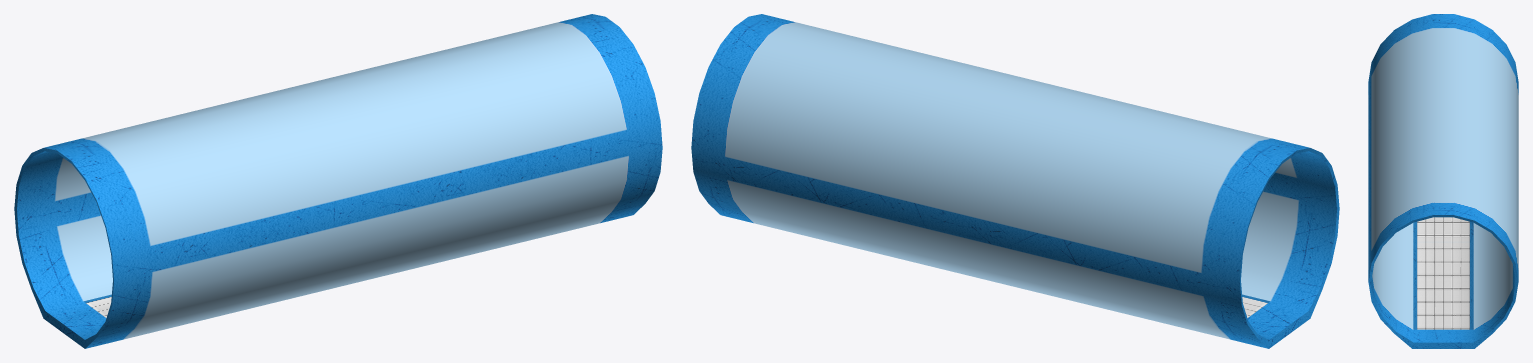
File: FUT0110019.fbx
The picture shows the model from 3 angles, left to right: view 1: azimuth 30°, elevation 25°; view 2: azimuth 150°, elevation 25°; view 3: azimuth 270°, elevation 25°; orthographic projection. The views are drawn at different scales.
Parts seen in each view (by area): view 1: smFUT0110019; view 2: smFUT0110019; view 3: smFUT0110019.
Boxes of the visible parts, bbox=[...] form: smFUT0110019: bbox=[14, 14, 662, 348]; smFUT0110019: bbox=[691, 14, 1339, 348]; smFUT0110019: bbox=[1368, 14, 1518, 348].
Bounding box in the file's own units: 680 × 211 × 215.
1 material, 1 textured.
